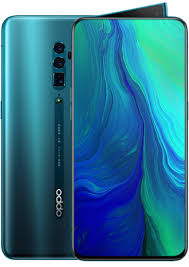oppo: (72, 13, 187, 264), (1, 13, 70, 258)
